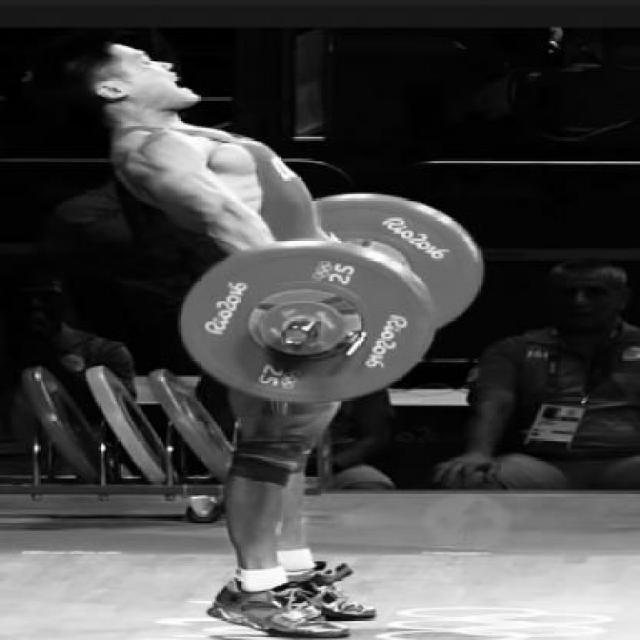Barbell: (278, 323, 312, 349)
